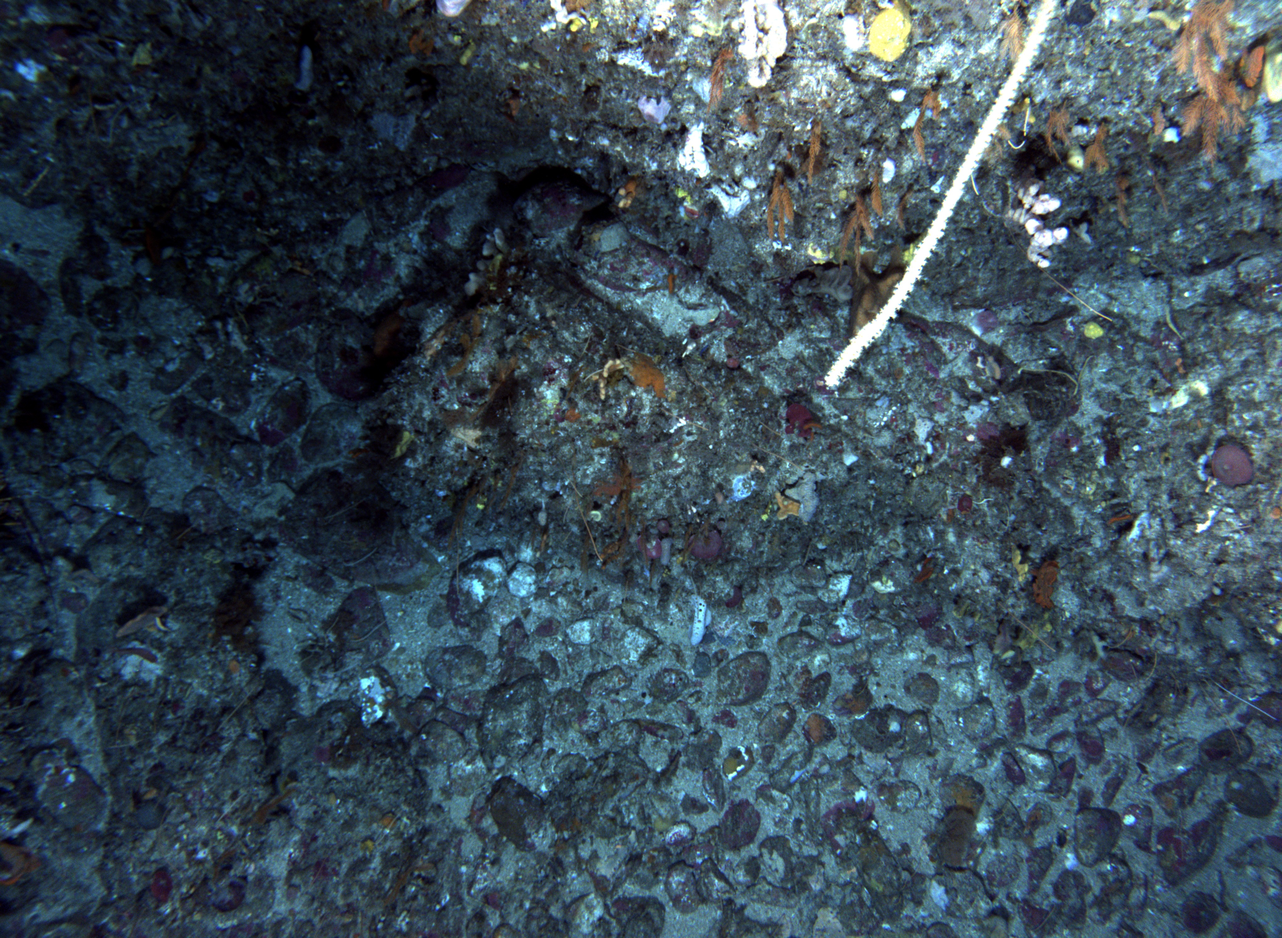Brachionichthyidae: (113, 603, 173, 643)
